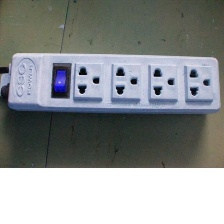three_eye_plug: (2, 49, 224, 118)
